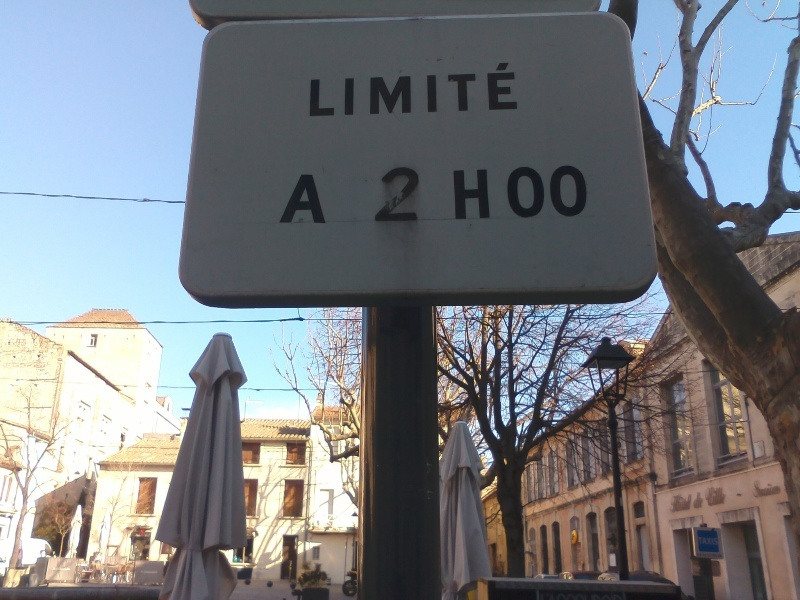text: (385, 166, 400, 226), (401, 166, 416, 226), (513, 163, 528, 221), (529, 163, 544, 221), (545, 163, 560, 221), (561, 163, 576, 221), (321, 62, 336, 119), (337, 62, 352, 119), (353, 62, 368, 119), (369, 62, 384, 119), (385, 62, 400, 119), (401, 62, 416, 119), (417, 62, 432, 119), (433, 62, 448, 119), (449, 62, 464, 119), (465, 62, 480, 119), (481, 62, 496, 119), (497, 62, 512, 119), (577, 163, 591, 221), (465, 168, 480, 221), (305, 174, 320, 224), (372, 166, 384, 226), (453, 168, 464, 221), (481, 168, 492, 221), (310, 62, 320, 119), (417, 166, 426, 226), (504, 163, 512, 221), (673, 485, 688, 515), (689, 485, 704, 515), (705, 485, 720, 515), (513, 62, 520, 119), (321, 174, 328, 224), (753, 478, 768, 500), (769, 478, 782, 500), (299, 174, 304, 224), (721, 485, 728, 515), (705, 536, 719, 546), (749, 478, 752, 500), (670, 485, 672, 515), (698, 536, 704, 546)
